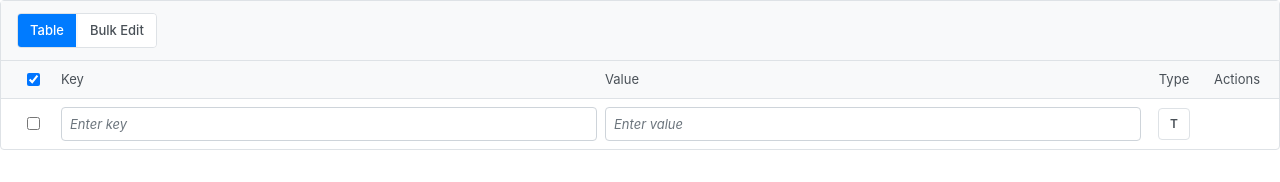
Scenario: FormDataEditor › should switch to bulk edit mode
Click the button "Bulk Edit" at (117, 30), box [78,14,156,47]
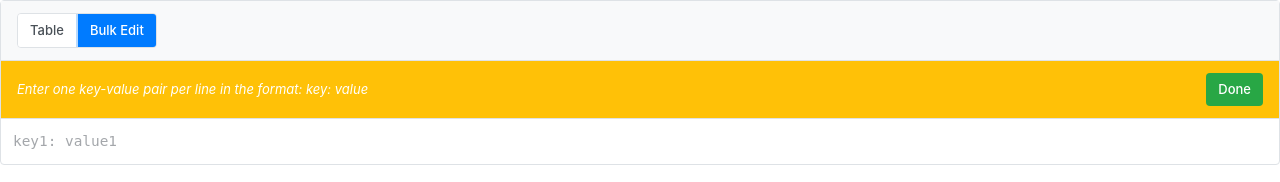
Expected: the text "Enter one key-value pair per line in the format: key: value" is shown, [17,79,368,100]
Expected: the button "Done" is shown, [1206,73,1263,106]
